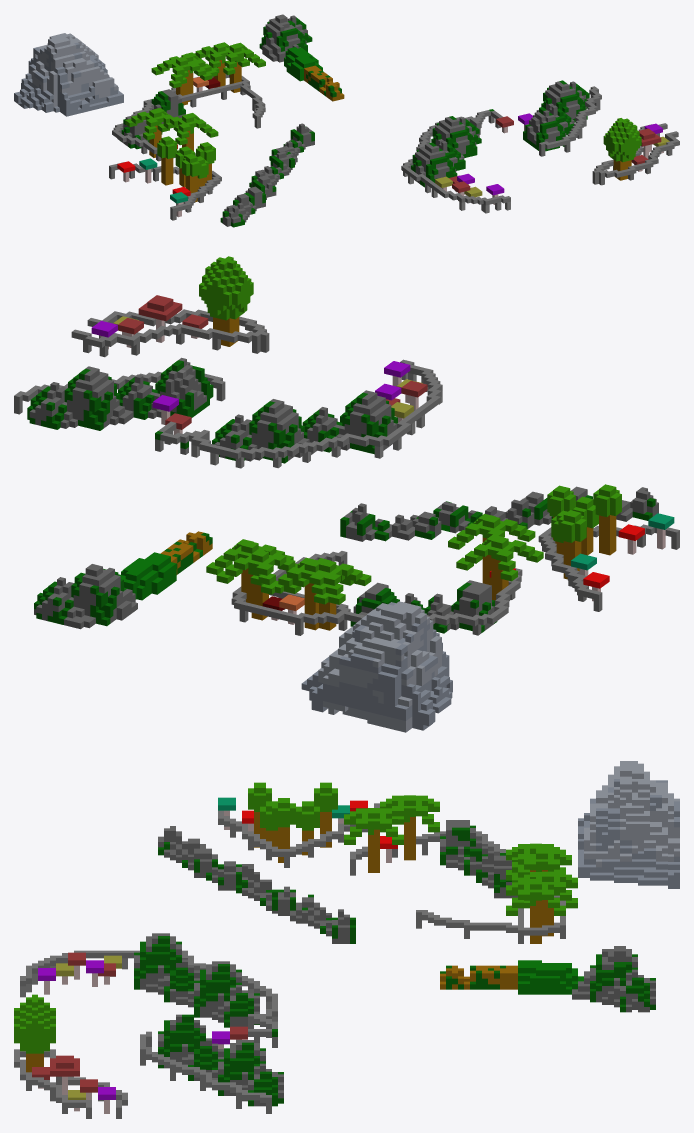
File: map_Third-9-tree3.obj
3 views of the same model, one above another, from view 1: azimuth 30°, elevation 25°; view 2: azimuth 150°, elevation 25°; view 3: azimuth 270°, elevation 25° (orthographic). The views are drawn at different scales.
Visible parts, largest first — view 1: tree3; view 2: tree3; view 3: tree3.
Part boxes in pixels (x1=…): tree3: x1=14, y1=14, x2=679, y2=227; tree3: x1=14, y1=256, x2=679, y2=732; tree3: x1=14, y1=761, x2=679, y2=1118.
Size of the model in its own units: 12 by 1.7 by 11.1.
1 material, 1 textured.
